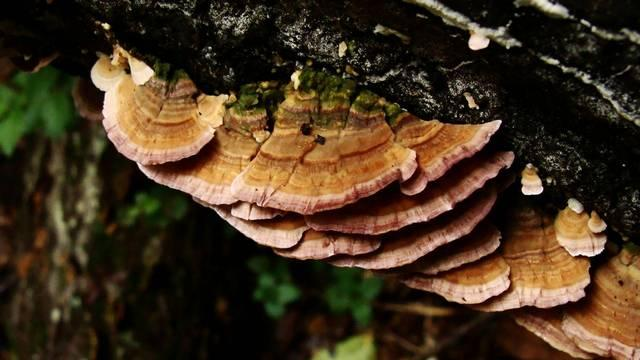Non-edible Mushroom: (97, 47, 640, 360)
